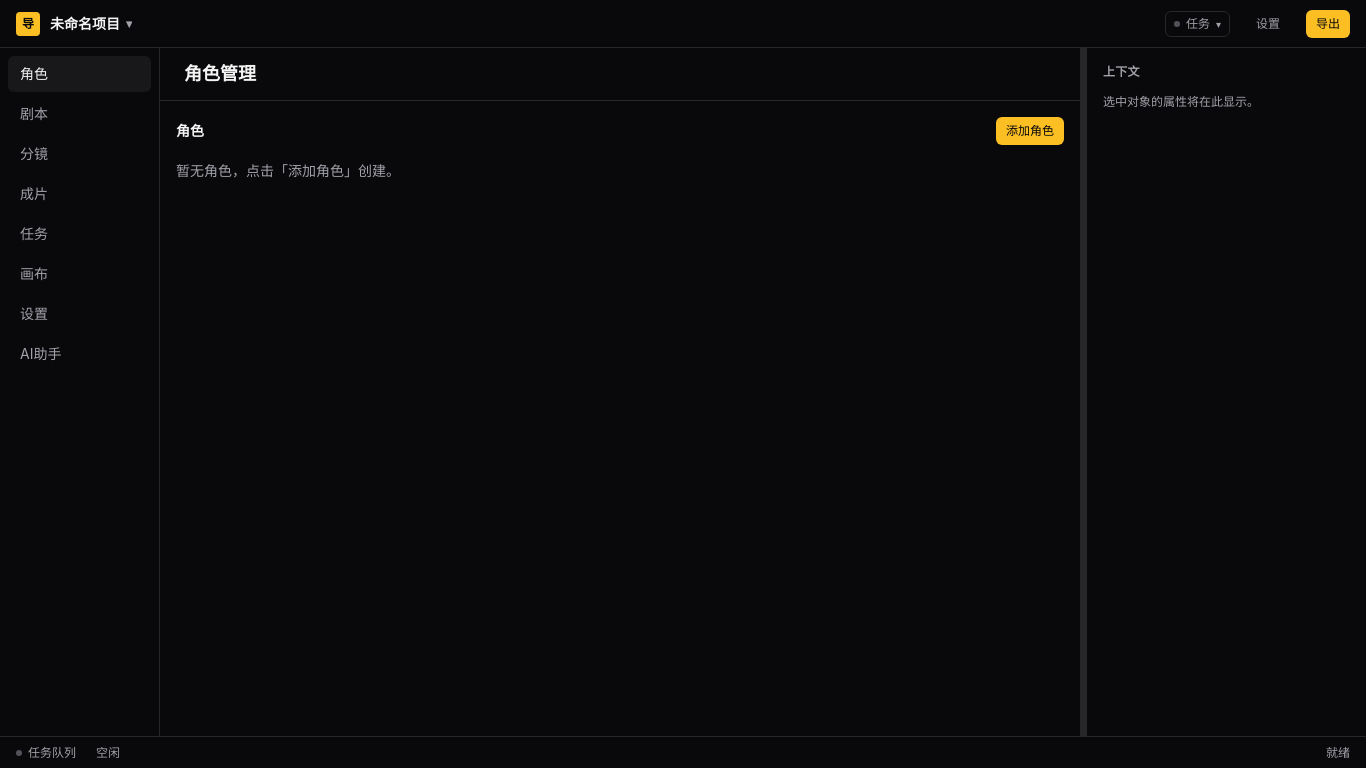
Test: app shell › switches active module when a nav item is clicked
Click the button "剧本": (80, 114) [8,96,151,132]
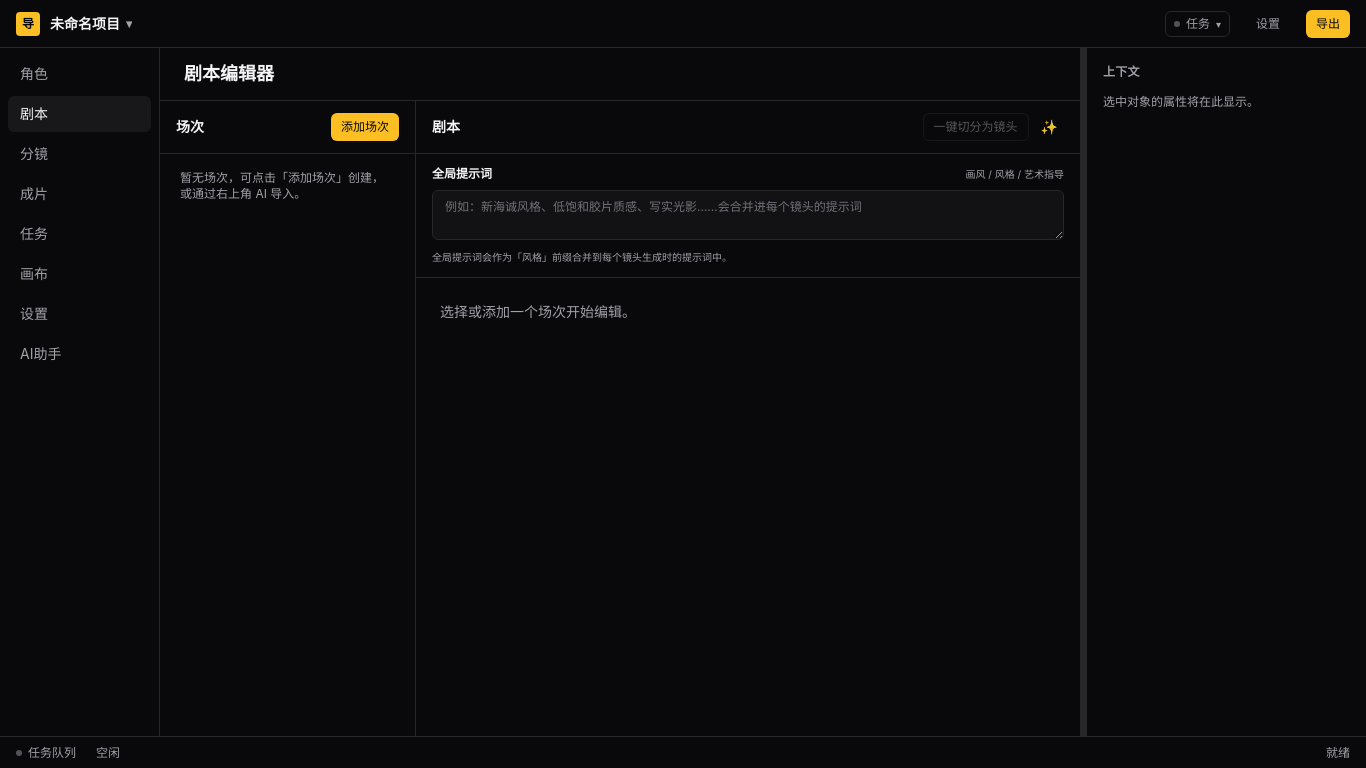
Result: the text "剧本编辑器" is shown at [184,60,274,88]
Result: the button with test id "ai-btn" is shown at [1034,113,1064,141]
Click the button "任务": (80, 234) [8,216,151,252]
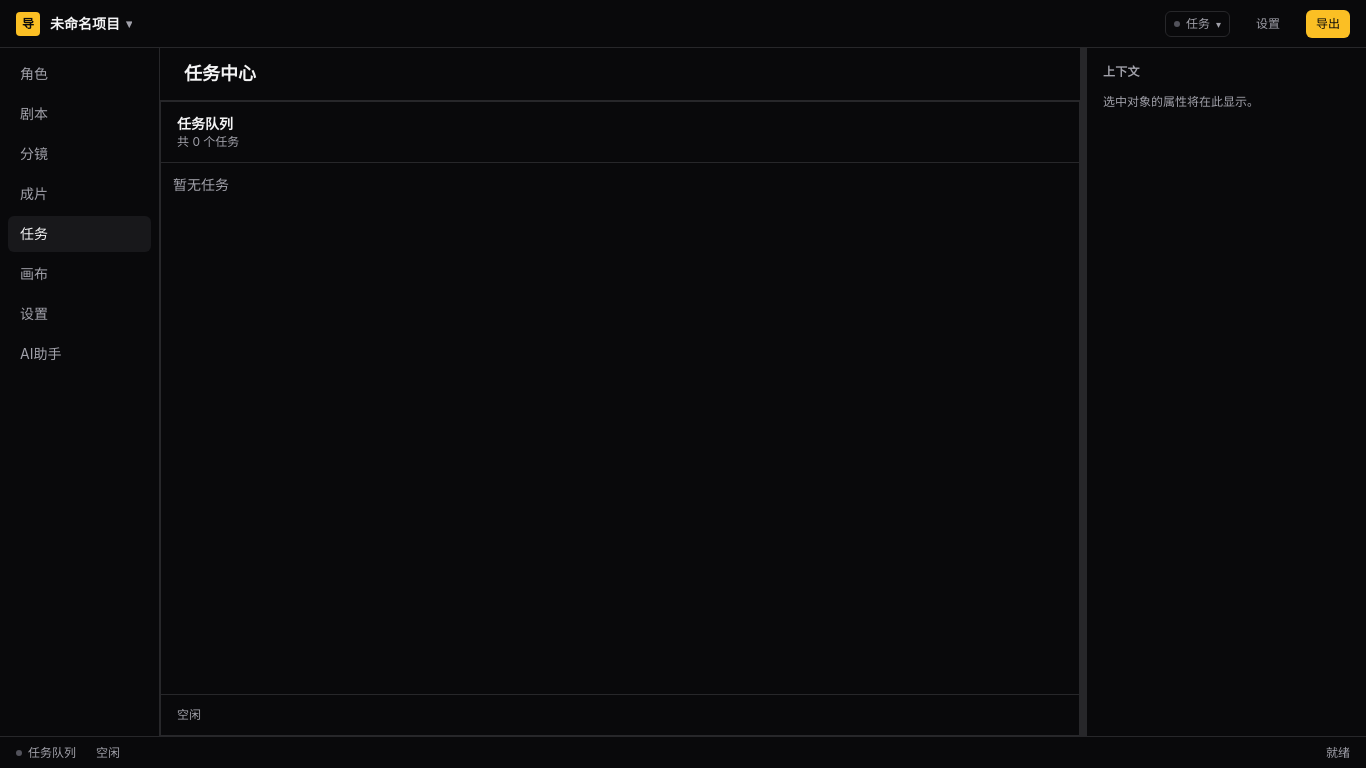
Result: the text "任务中心" is shown at [184,60,256,88]
Result: the element with test id "jobs-drawer" is shown at [160,101,1080,736]
